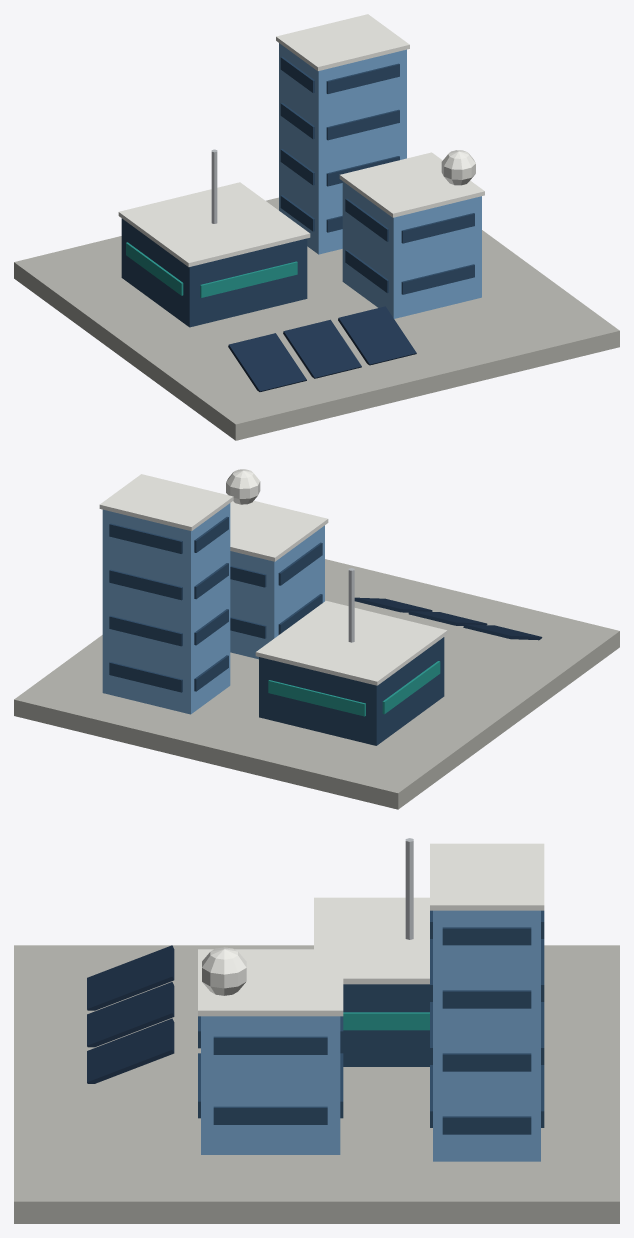
The model's file is finance_special_3.glb.
3 views of the same model, one above another, from view 1: azimuth 30°, elevation 25°; view 2: azimuth 150°, elevation 25°; view 3: azimuth 270°, elevation 25° (orthographic). The views are drawn at different scales.
Visible parts, largest first — view 1: finance_special_3; view 2: finance_special_3; view 3: finance_special_3.
Part boxes in pixels (left/top/right/bottom): finance_special_3: left=14, top=14, right=619, bottom=440; finance_special_3: left=14, top=469, right=619, bottom=809; finance_special_3: left=14, top=838, right=619, bottom=1223.
Size of the model in its own units: 1.96 by 1 by 1.96.
